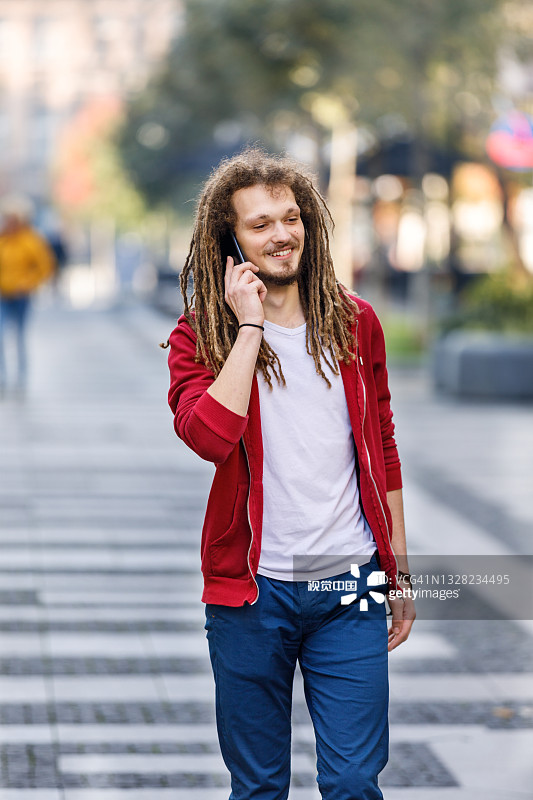calling: (197, 230, 290, 351)
